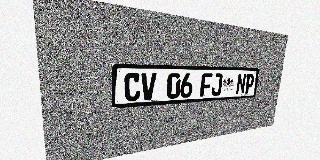0: (166, 73, 181, 99)
6: (180, 73, 193, 98)
C: (124, 73, 141, 102)
F: (200, 73, 212, 97)
J: (211, 73, 223, 96)
N: (235, 74, 246, 94)
P: (244, 74, 255, 94)
V: (141, 73, 156, 101)
